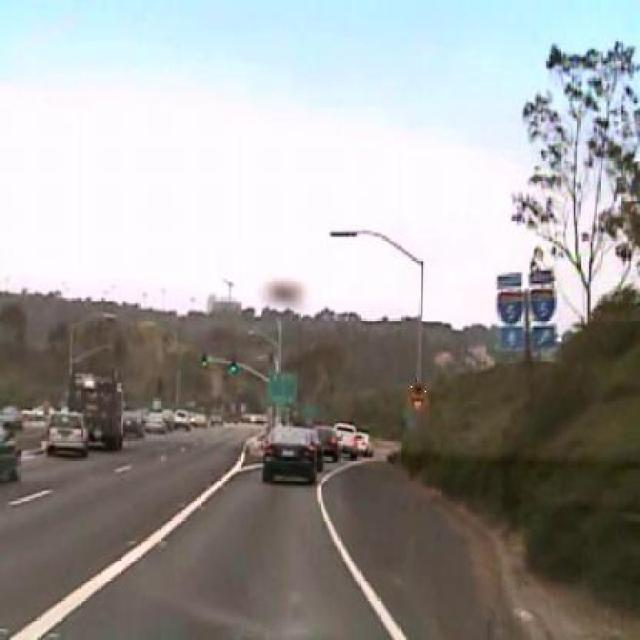yieldAhead: (403, 378, 432, 418)
